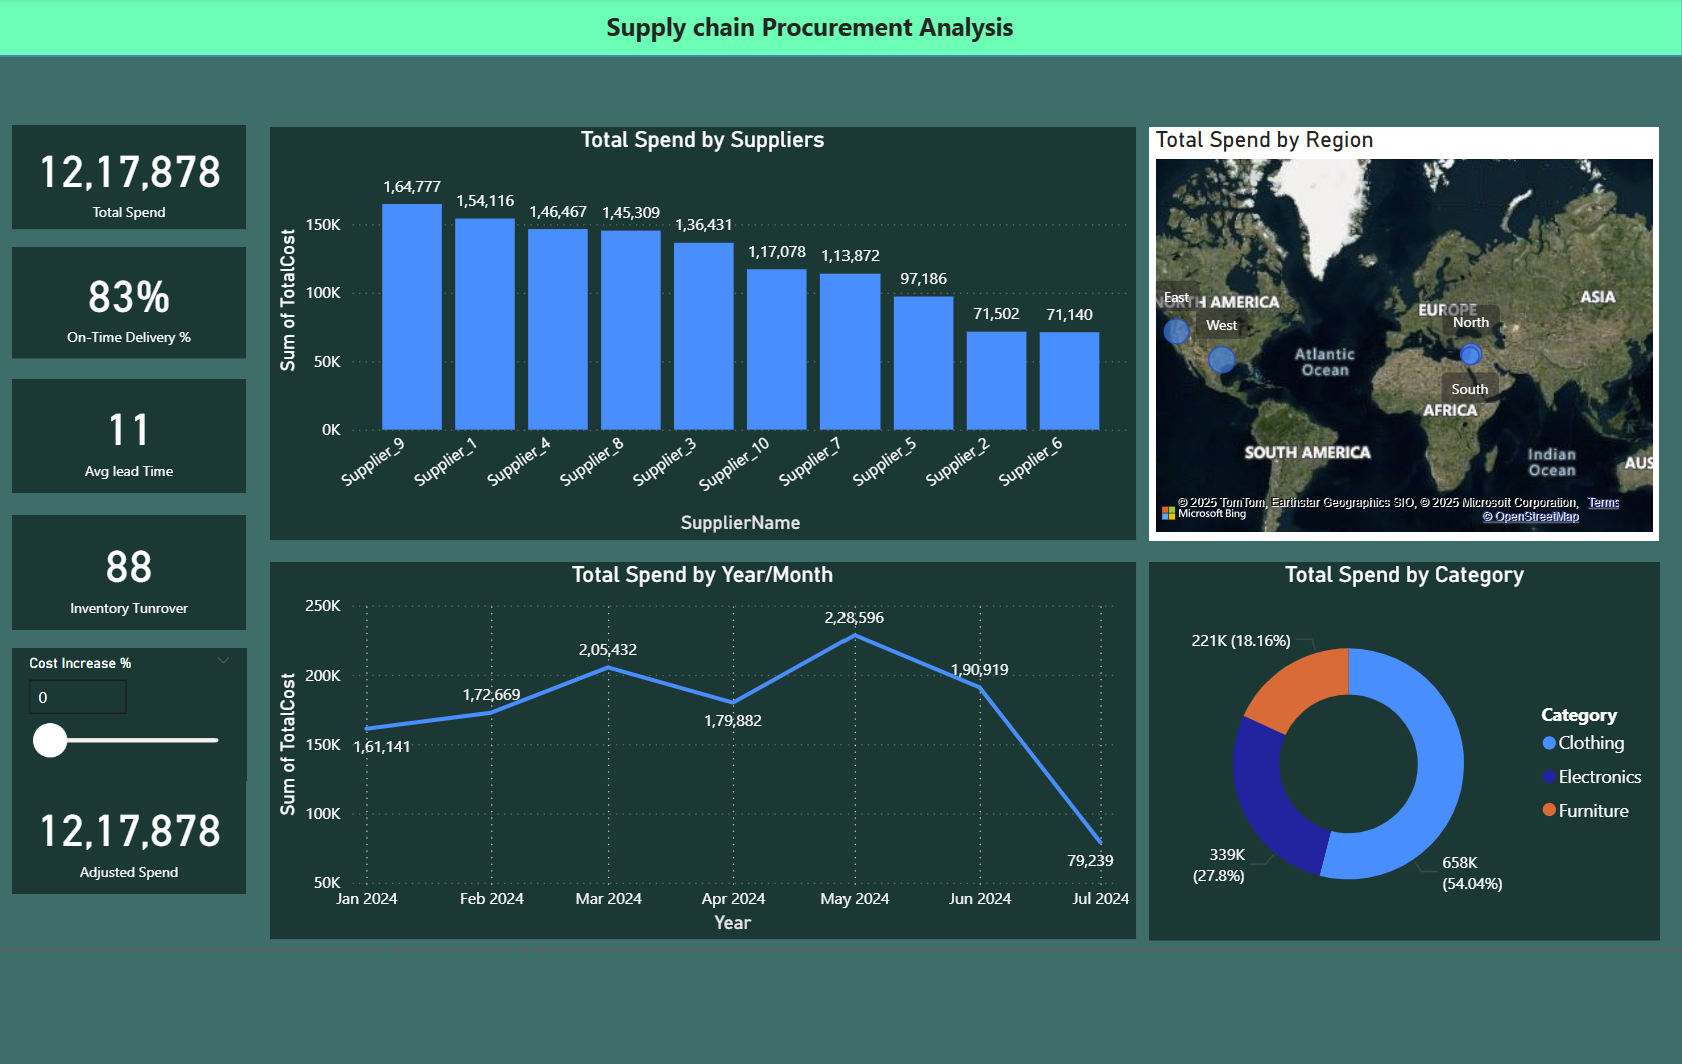

The page's visual inventory and layout, read from the dashboard file:
{"tool":"powerbi","page":{"name":"Spend Overview","canvas":[1280,720],"ordinal":0},"visuals":[{"type":"card","fields":{"Values":["Measure.Total Spend"]},"box":[13.7,96.3,177.6,79.2],"z":0},{"type":"shape","box":[0,0,1280,45.1],"z":1000},{"type":"card","fields":{"Values":["Measure.On-Time Delivery %"]},"box":[13.7,189.6,177.6,84.3],"z":2000},{"type":"card","fields":{"Values":["Measure.Avg lead Time"]},"box":[13.7,289.9,177.6,86.3],"z":3000},{"type":"card","fields":{"Values":["Measure.Inventory Tunrover"]},"box":[13.7,392.3,177.6,86.3],"z":4000},{"type":"slicer","fields":{"Values":["Cost Increase %.Cost Increase %"]},"box":[13.7,492.6,177.6,100.3],"z":5000},{"type":"card","fields":{"Values":["Measure.Adjusted Spend"]},"box":[13.7,592.9,177.6,86.3],"z":6000},{"type":"clusteredColumnChart","title":"Total Spend by Suppliers","fields":{"Category":["Suppliers.SupplierName"],"Y":["Sum(Purchases.TotalCost)"]},"box":[209.3,98.5,656,312.5],"z":7000},{"type":"lineChart","title":"Total Spend by Year/Month","fields":{"Y":["Sum(Purchases.TotalCost)"],"Category":["Calendar.Date.Variation.Date Hierarchy.Year","Calendar.Date.Variation.Date Hierarchy.Month"]},"box":[209.3,427,656,286.2],"z":8000},{"type":"map","title":"Total Spend by Region","fields":{"Size":["Sum(Purchases.TotalCost)"],"Category":["Suppliers.Region"]},"box":[874.6,98.5,386.6,312.5],"z":9000},{"type":"donutChart","fields":{"Category":["Items.Category"],"Y":["Measure.Total Spend"]},"box":[874.6,427,387.6,287.2],"z":10000},{"type":"textbox","box":[458.9,4.7,328.4,35.7],"z":11000}]}

Visuals, with their boxes on the page's 1280x720 design canvas (x1, y1, x2, y2). These are canvas units, not pixel positions in the 1682x1064 screenshot, which may show the page scaled, cropped or inside an application window:
card - Measure.Total Spend: bbox=(14, 96, 191, 176)
shape: bbox=(0, 0, 1280, 45)
card - Measure.On-Time Delivery %: bbox=(14, 190, 191, 274)
card - Measure.Avg lead Time: bbox=(14, 290, 191, 376)
card - Measure.Inventory Tunrover: bbox=(14, 392, 191, 479)
slicer - Cost Increase %.Cost Increase %: bbox=(14, 493, 191, 593)
card - Measure.Adjusted Spend: bbox=(14, 593, 191, 679)
"Total Spend by Suppliers" clusteredColumnChart: bbox=(209, 98, 865, 411)
"Total Spend by Year/Month" lineChart: bbox=(209, 427, 865, 713)
"Total Spend by Region" map: bbox=(875, 98, 1261, 411)
donutChart - Items.Category x Measure.Total Spend: bbox=(875, 427, 1262, 714)
textbox: bbox=(459, 5, 787, 40)
